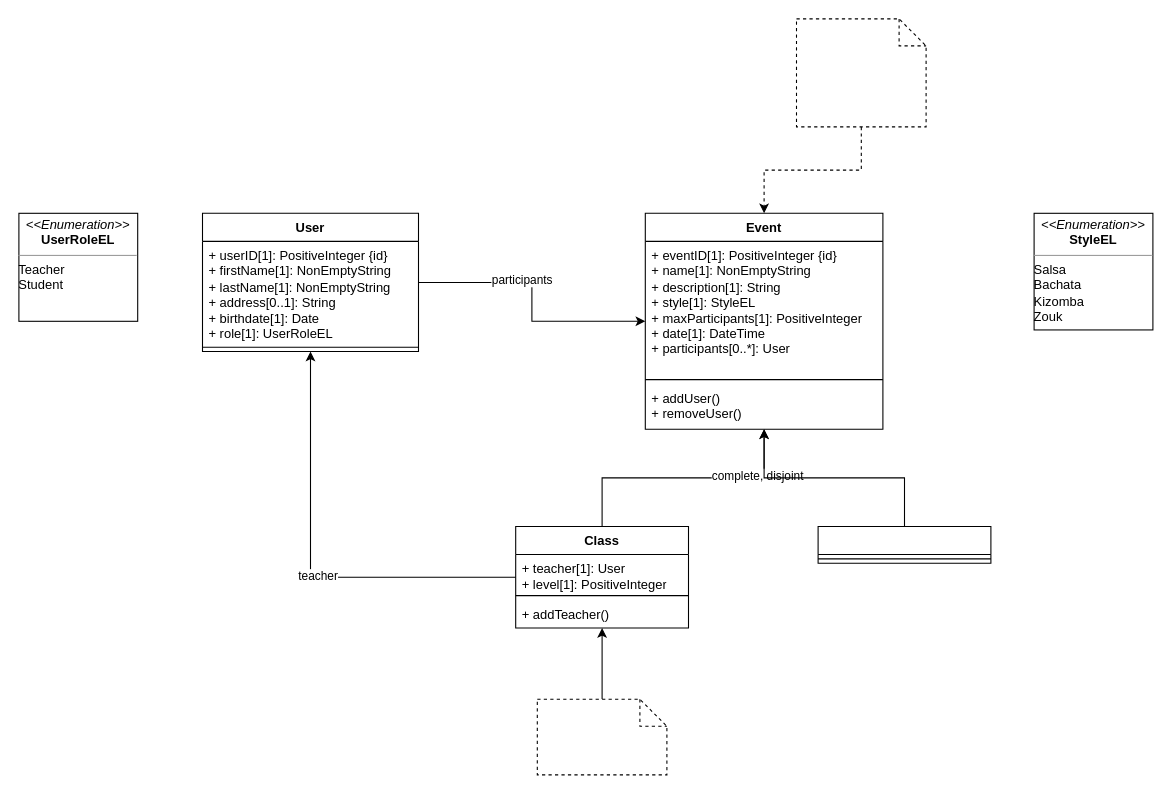
This 1172x794 diagram has some shape labels left out. The shapes that lost their labels are listed below. From the top down, each one's centre as x and y in pixels, then its label:
pixel 860 72: Maximum of participants is maxParticipants
pixel 904 544: Party
pixel 601 736: Level is in a range of 1 to 5
